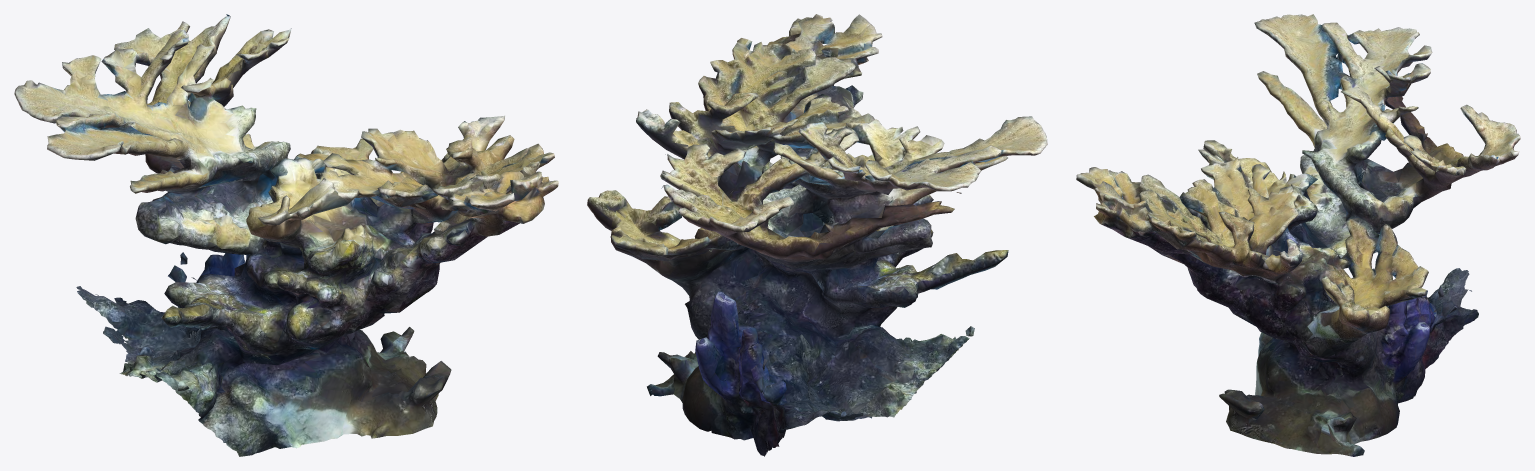
File: elkhorn.glb
3 renders of one model, left to right at view 1: azimuth 30°, elevation 25°; view 2: azimuth 150°, elevation 25°; view 3: azimuth 270°, elevation 25°, orthographic. The views are drawn at different scales.
Parts seen in each view (by area): view 1: prop; view 2: prop; view 3: prop.
Part boxes in pixels (left/top/right/bottom): prop: left=14, top=14, right=558, bottom=456; prop: left=587, top=14, right=1047, bottom=456; prop: left=1076, top=14, right=1520, bottom=456.
Size of the model in its own units: 0.9941 by 0.761 by 0.9993.
1 material, 1 textured.
